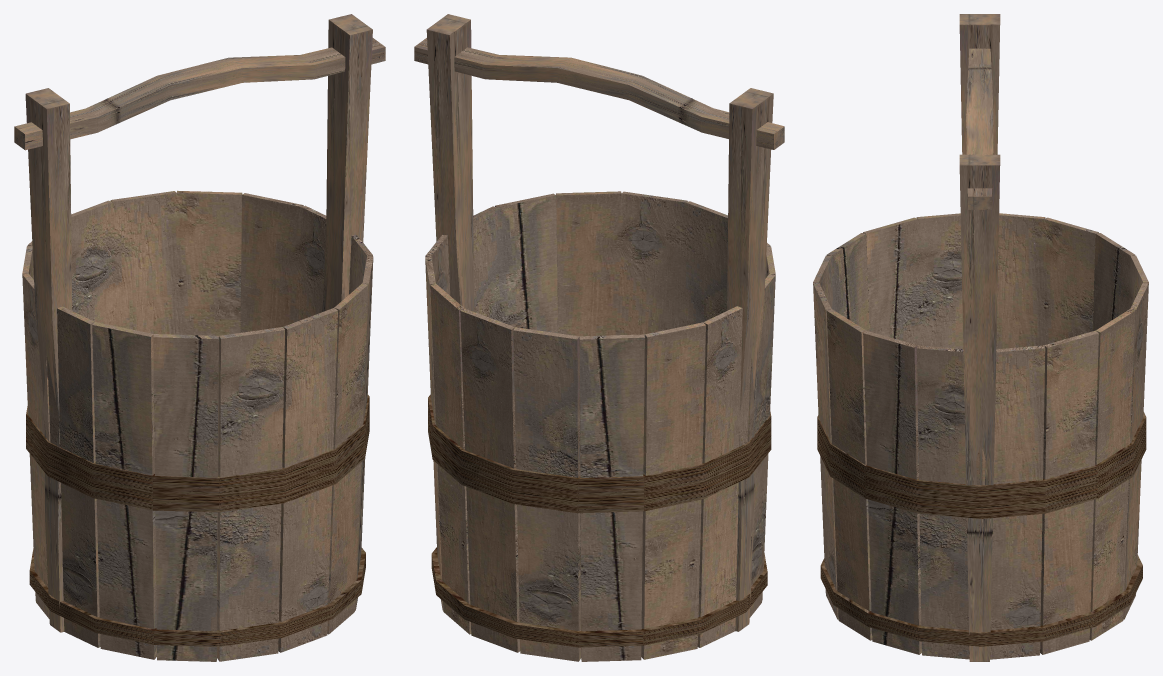
The picture shows the model from 3 angles, left to right: view 1: azimuth 30°, elevation 25°; view 2: azimuth 150°, elevation 25°; view 3: azimuth 270°, elevation 25°; orthographic projection. The views are drawn at different scales.
Parts seen in each view (by area): view 1: fangzi_14; view 2: fangzi_14; view 3: fangzi_14.
Boxes of the visible parts, x1,y1,x2,y2 form: fangzi_14: (14,14,385,661); fangzi_14: (414,14,784,661); fangzi_14: (813,14,1148,661).
Size of the model in its own units: 35.01 by 49.52 by 29.81.
